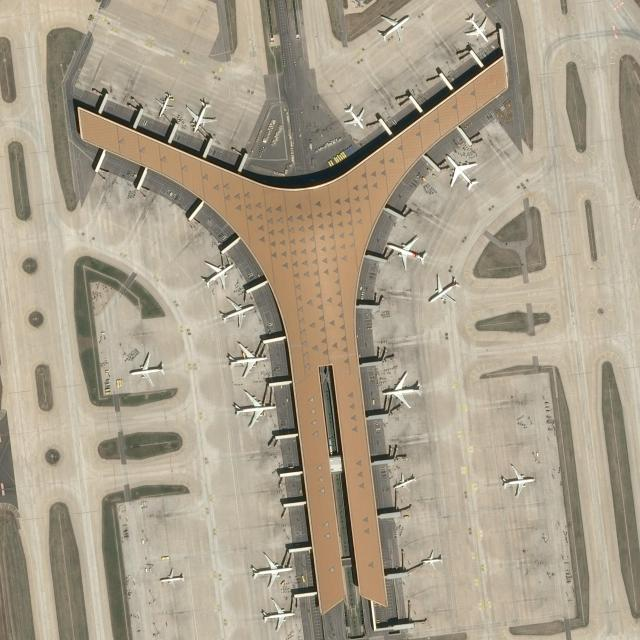aircraft: (232, 388, 280, 428), (249, 550, 295, 590), (380, 368, 423, 409), (442, 152, 481, 192), (226, 341, 269, 376), (385, 235, 429, 268), (496, 464, 536, 496), (258, 598, 298, 630), (200, 256, 237, 290), (128, 354, 166, 386), (375, 10, 412, 42), (218, 296, 258, 325), (185, 97, 218, 132), (426, 274, 462, 304), (462, 12, 490, 43), (341, 101, 366, 129), (157, 566, 185, 588), (154, 92, 176, 118), (393, 471, 417, 494), (422, 549, 444, 569)
